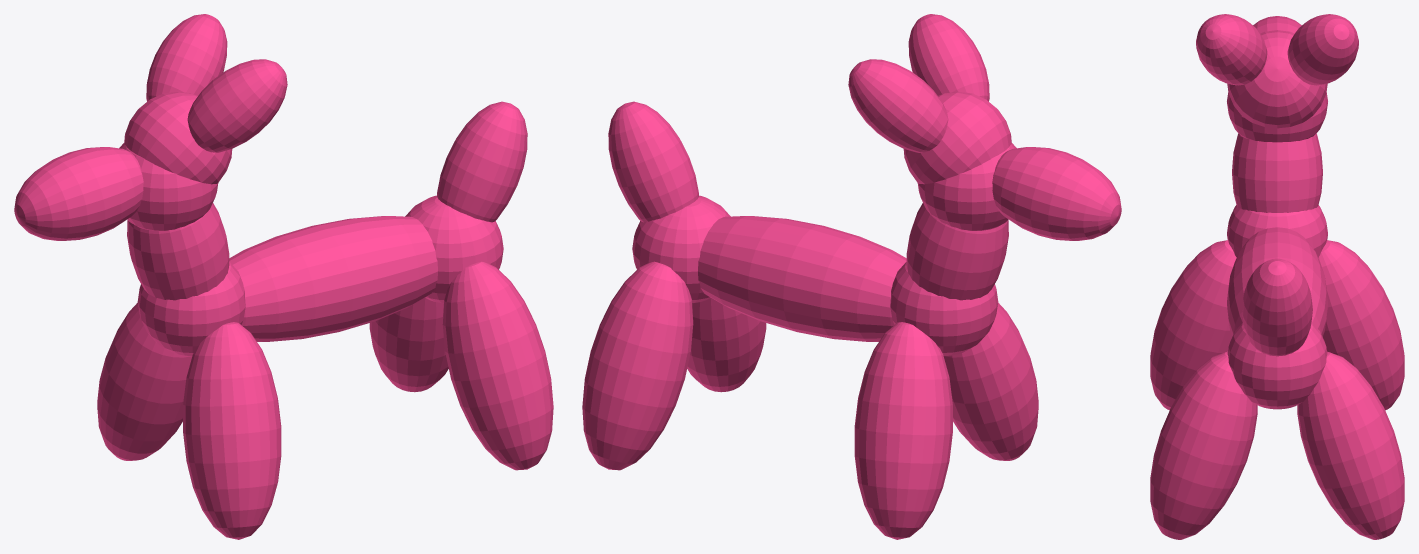
File: perro_globo.glb
3 renders of one model, left to right at view 1: azimuth 30°, elevation 25°; view 2: azimuth 150°, elevation 25°; view 3: azimuth 270°, elevation 25°, orthographic. The views are drawn at different scales.
Parts seen in each view (by area): view 1: cuerpo, pata_del-1, pata_tra-1, pata_del1, hocico, rabo, cuello, oreja-1, cabeza, pata_tra1, nudo0, oreja1 (+2 smaller); view 2: cuerpo, pata_del1, pata_tra1, pata_del-1, hocico, rabo, cuello, oreja1, cabeza, pata_tra-1, nudo0, oreja-1 (+2 smaller); view 3: pata_tra1, pata_tra-1, pata_del1, pata_del-1, cuello, rabo, nudo1, cabeza, cuerpo, oreja1, oreja-1, nudo0 (+2 smaller).
Part boxes in pixels (bbox=[...]): cuerpo: bbox=[229, 216, 437, 341]; pata_del-1: bbox=[183, 322, 281, 539]; pata_tra-1: bbox=[442, 261, 553, 470]; pata_del1: bbox=[97, 302, 192, 460]; hocico: bbox=[14, 147, 143, 240]; rabo: bbox=[437, 101, 527, 222]; cuello: bbox=[127, 203, 229, 300]; oreja-1: bbox=[187, 59, 287, 152]; cabeza: bbox=[124, 92, 232, 184]; pata_tra1: bbox=[369, 298, 448, 392]; nudo0: bbox=[137, 262, 245, 355]; oreja1: bbox=[146, 14, 227, 101]; cuerpo: bbox=[698, 216, 906, 341]; pata_del1: bbox=[854, 322, 952, 539]; pata_tra1: bbox=[582, 261, 693, 470]; pata_del-1: bbox=[943, 302, 1038, 460]; hocico: bbox=[992, 147, 1121, 240]; rabo: bbox=[608, 101, 698, 222]; cuello: bbox=[906, 203, 1008, 300]; oreja1: bbox=[848, 59, 948, 152]; cabeza: bbox=[903, 92, 1011, 184]; pata_tra-1: bbox=[687, 298, 766, 392]; nudo0: bbox=[890, 262, 998, 355]; oreja-1: bbox=[908, 14, 989, 101]; pata_tra1: bbox=[1297, 351, 1404, 539]; pata_tra-1: bbox=[1150, 351, 1257, 539]; pata_del1: bbox=[1318, 240, 1404, 410]; pata_del-1: bbox=[1150, 240, 1236, 410]; cuello: bbox=[1232, 133, 1322, 212]; rabo: bbox=[1242, 258, 1312, 356]; nudo1: bbox=[1227, 322, 1327, 409]; cabeza: bbox=[1227, 30, 1327, 128]; cuerpo: bbox=[1227, 227, 1327, 336]; oreja1: bbox=[1287, 14, 1358, 85]; oreja-1: bbox=[1196, 14, 1267, 85]; nudo0: bbox=[1227, 205, 1327, 257].
Bounding box in the file's own units: 0.5326 × 0.4499 × 0.2512.
